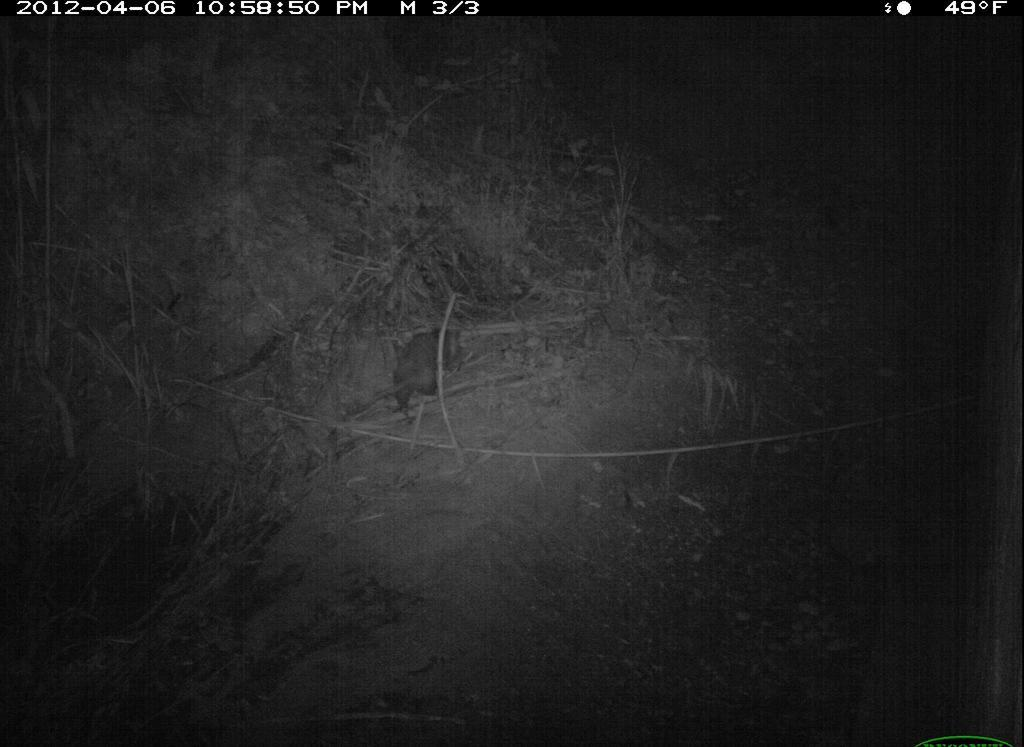opossum: (354, 323, 496, 425)
